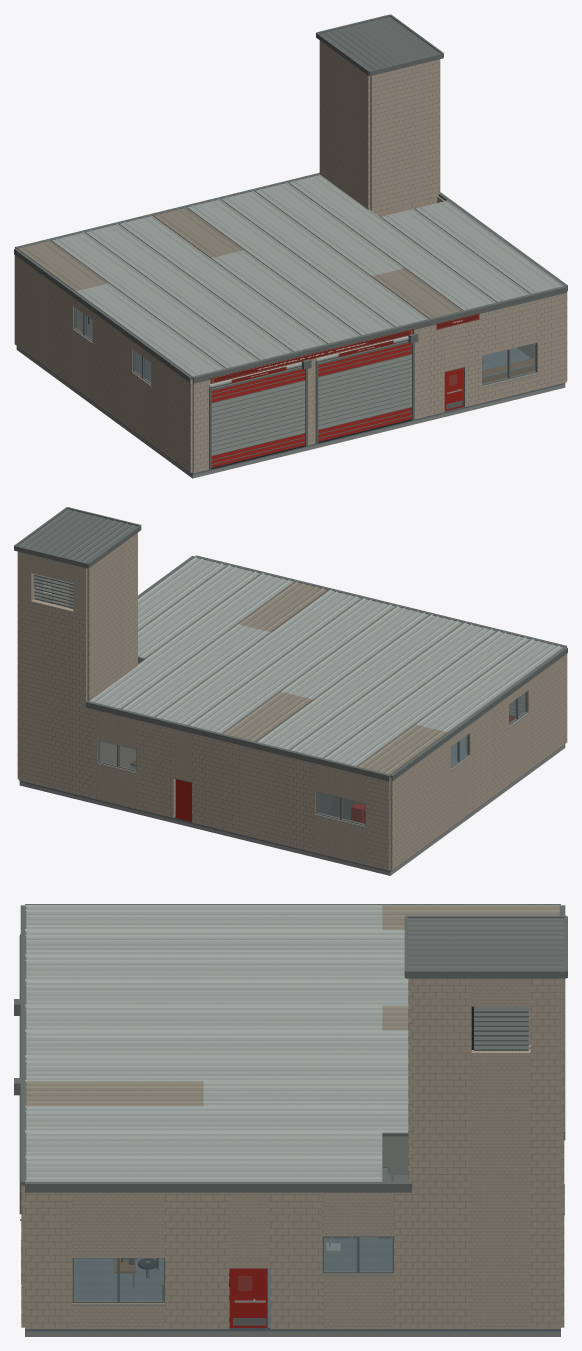
The model's file is PROJECT_Z_Fire_Station.glb.
3 views of the same model, one above another, from view 1: azimuth 30°, elevation 25°; view 2: azimuth 150°, elevation 25°; view 3: azimuth 270°, elevation 25° (orthographic). The views are drawn at different scales.
Visible parts, largest first — view 1: TOWER_South_UpperWall, TOWER_Wall_West, WALL_Left_Back, WALL_Left_Front, WALL_Left_Middle, TOWER_IndependentRoofCap, FASCIA_Roof_Front, WALL_Front_StaffWindowRight, WALL_OfficeFront_Lintel, SLAB_00_ReinforcedConcrete, ROOF_RemovableSheet_X04_Y2, ROOF_RemovableSheet_X06_Y2 (+46 smaller); view 2: TOWER_North_WallLow, WALL_Rear_BayMid, TOWER_Wall_West, WALL_Left_Back, WALL_Left_Front, WALL_Left_Middle, TOWER_IndependentRoofCap, FASCIA_Roof_Rear, WALL_Rear_BayLeft, SLAB_00_ReinforcedConcrete, WALL_Rear_BayWindow_Sill, ROOF_RemovableSheet_X02_Y2 (+47 smaller); view 3: TOWER_East_Solid_South, TOWER_East_VentBelow, TOWER_East_Solid_North, WALL_Right_MidFront, TOWER_IndependentRoofCap, WALL_Right_Mid, FLOOR_00_WashableEpoxy, WALL_Right_Front, WALL_Right_OfficeWindow_Lintel, ROOF_RemovableSheet_X04_Y2, ROOF_RemovableSheet_X10_Y2, ROOF_RemovableSheet_X02_Y2 (+48 smaller).
Boxes of the visible parts, x1,y1,x2,y2 form: TOWER_South_UpperWall: (370, 59, 439, 211); TOWER_Wall_West: (319, 40, 370, 209); WALL_Left_Back: (14, 255, 77, 386); WALL_Left_Front: (151, 355, 192, 472); WALL_Left_Middle: (92, 312, 135, 429); TOWER_IndependentRoofCap: (320, 16, 440, 70); FASCIA_Roof_Front: (192, 286, 566, 383); WALL_Front_StaffWindowRight: (537, 293, 566, 389); WALL_OfficeFront_Lintel: (482, 300, 537, 355); SLAB_00_ReinforcedConcrete: (16, 346, 565, 478); ROOF_RemovableSheet_X04_Y2: (177, 258, 268, 309); ROOF_RemovableSheet_X06_Y2: (244, 241, 336, 292); TOWER_North_WallLow: (18, 598, 87, 796); WALL_Rear_BayMid: (192, 733, 315, 852); TOWER_Wall_West: (87, 533, 137, 767); WALL_Left_Back: (390, 739, 450, 870); WALL_Left_Front: (524, 654, 567, 770); WALL_Left_Middle: (466, 696, 508, 812); TOWER_IndependentRoofCap: (18, 509, 137, 562); FASCIA_Roof_Rear: (85, 701, 390, 781); WALL_Rear_BayLeft: (365, 776, 390, 870); SLAB_00_ReinforcedConcrete: (19, 745, 565, 875); WALL_Rear_BayWindow_Sill: (315, 814, 365, 864); ROOF_RemovableSheet_X02_Y2: (382, 673, 473, 724); TOWER_East_Solid_South: (412, 978, 471, 1329); TOWER_East_VentBelow: (471, 1050, 530, 1329); TOWER_East_Solid_North: (531, 978, 560, 1329); WALL_Right_MidFront: (165, 1192, 228, 1329); TOWER_IndependentRoofCap: (408, 918, 564, 970); WALL_Right_Mid: (270, 1192, 322, 1329); FLOOR_00_WashableEpoxy: (25, 1168, 560, 1331); WALL_Right_Front: (25, 1192, 72, 1329); WALL_Right_OfficeWindow_Lintel: (72, 1192, 164, 1257); ROOF_RemovableSheet_X04_Y2: (203, 980, 382, 1005); ROOF_RemovableSheet_X10_Y2: (203, 1131, 382, 1156); ROOF_RemovableSheet_X02_Y2: (203, 930, 382, 955).
Bounding box in the file's own units: 22.38 × 13.64 × 18.61.
16 materials, 16 textured.
